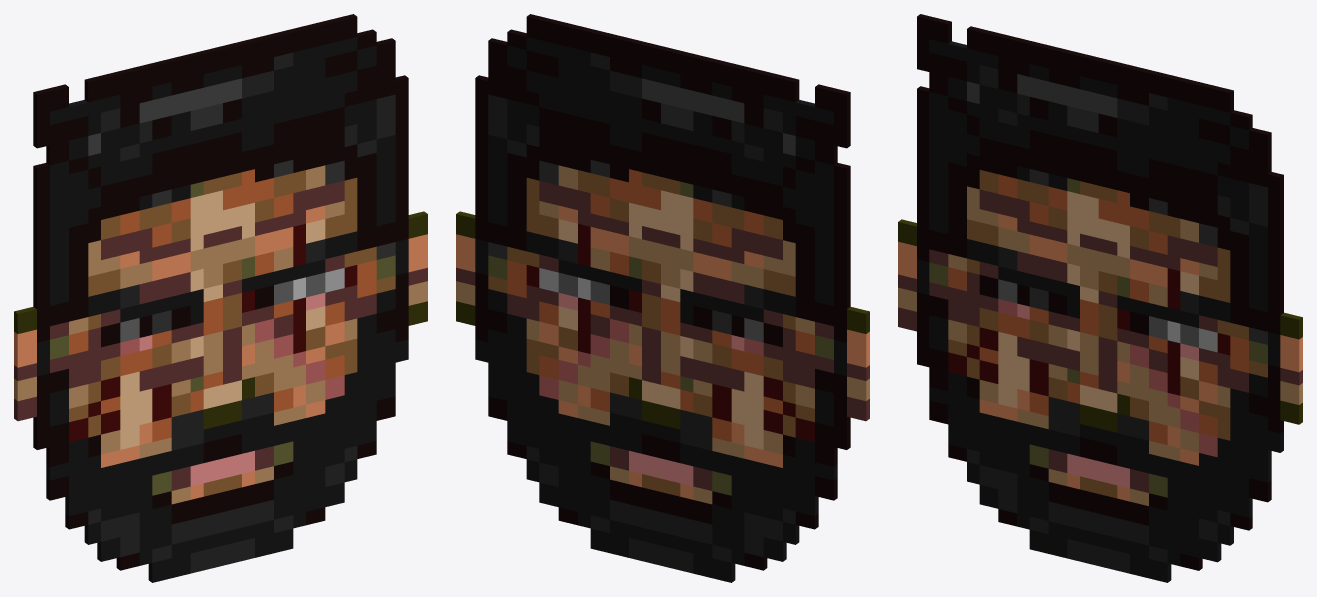
Rendered from Personaje.glb.
3 renders of one model, left to right at view 1: azimuth 30°, elevation 25°; view 2: azimuth 150°, elevation 25°; view 3: azimuth 330°, elevation 25°, orthographic. The views are drawn at different scales.
Parts seen in each view (by area): view 1: Personaje; view 2: Personaje; view 3: Personaje.
Part boxes in pixels (x1,y1,x2,y2): Personaje: [14, 14, 427, 582]; Personaje: [456, 14, 869, 582]; Personaje: [898, 14, 1302, 582].
Size of the model in its own units: 6.4 by 7.7 by 0.1.
Materials: 1 (1 with a texture image).
